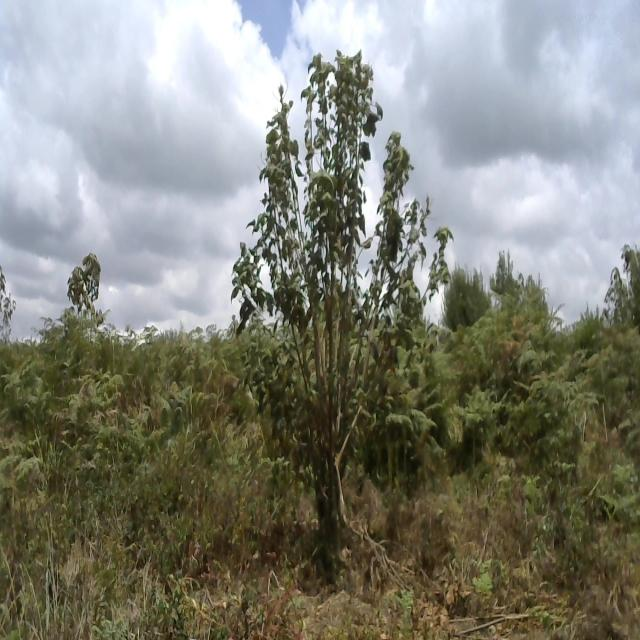other: (223, 44, 441, 608), (64, 245, 104, 332)
